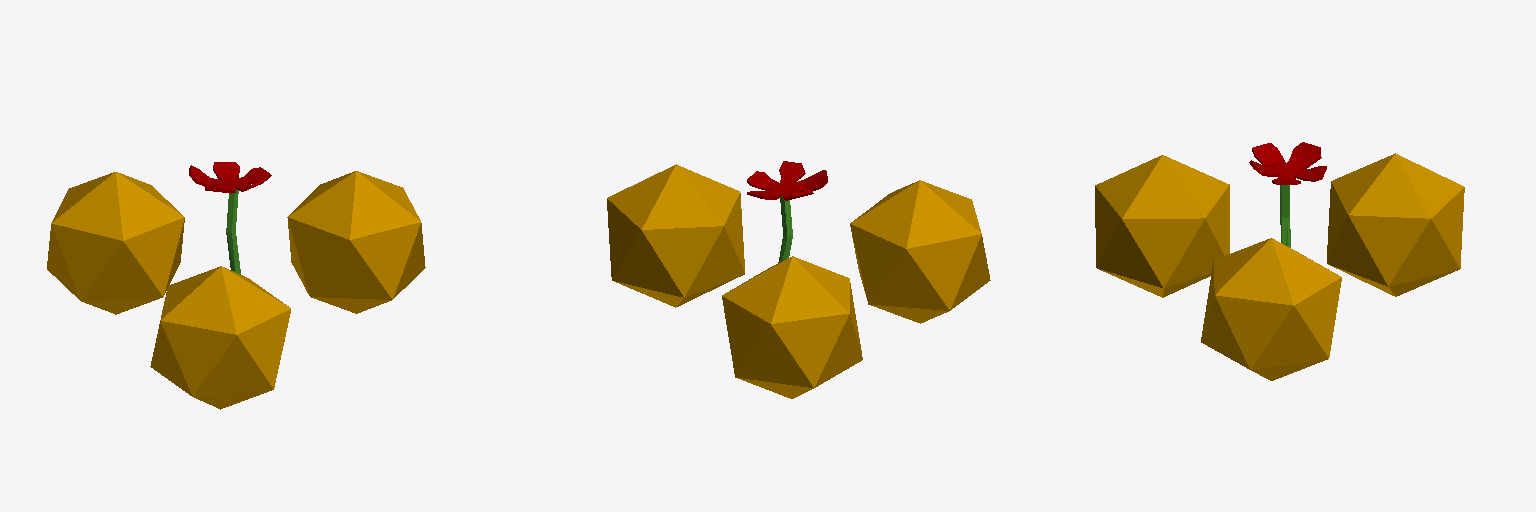
Rendered from flower_tool.obj.
The picture shows the model from 3 angles: view 1: azimuth 30°, elevation 25°; view 2: azimuth 150°, elevation 25°; view 3: azimuth 270°, elevation 25°; orthographic projection.
Visible parts, largest first — view 1: energy_remain_Icosphere.001, energy_remain_Icosphere, energy_remain_Icosphere.002, Cube.001; view 2: energy_remain_Icosphere.001, energy_remain_Icosphere, energy_remain_Icosphere.002, Cube.001; view 3: energy_remain_Icosphere, energy_remain_Icosphere.002, energy_remain_Icosphere.001, Cube.001.
Part boxes in pixels (bbox=[...]): energy_remain_Icosphere.001: bbox=[287, 171, 425, 313]; energy_remain_Icosphere: bbox=[47, 172, 184, 314]; energy_remain_Icosphere.002: bbox=[150, 266, 290, 409]; Cube.001: bbox=[189, 162, 271, 274]; energy_remain_Icosphere.001: bbox=[607, 164, 744, 307]; energy_remain_Icosphere: bbox=[722, 256, 862, 398]; energy_remain_Icosphere.002: bbox=[850, 180, 990, 323]; Cube.001: bbox=[747, 161, 827, 262]; energy_remain_Icosphere: bbox=[1327, 153, 1464, 296]; energy_remain_Icosphere.002: bbox=[1095, 155, 1229, 297]; energy_remain_Icosphere.001: bbox=[1201, 238, 1341, 380]; Cube.001: bbox=[1249, 142, 1326, 247].
Size of the model in its own units: 0.6505 by 0.3524 by 0.6726.